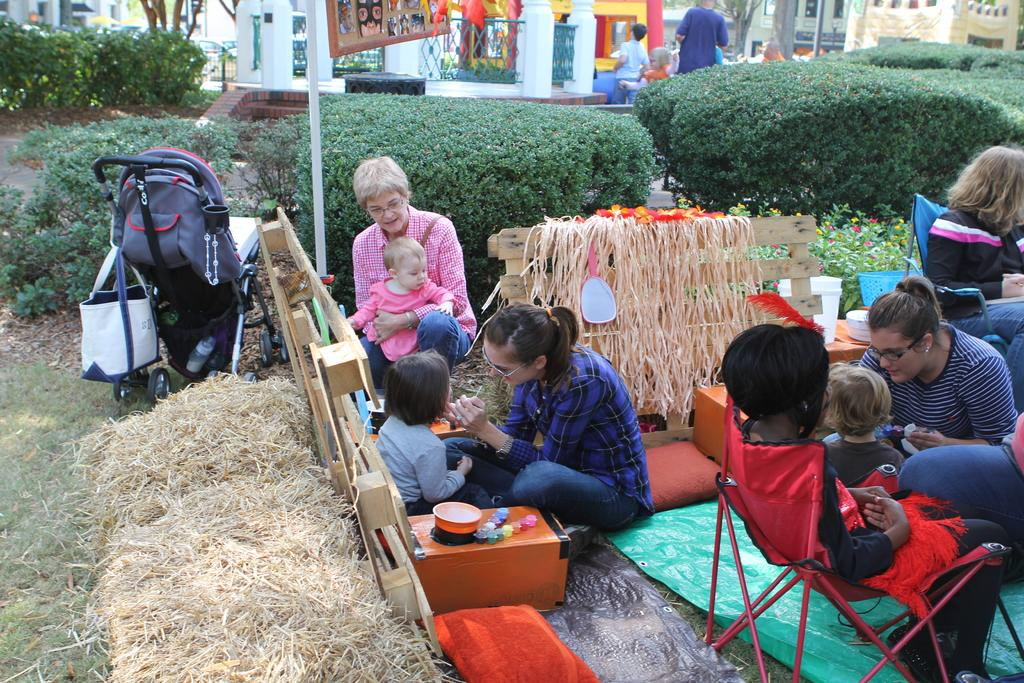Luggage-and-bags: (86, 144, 233, 325)
